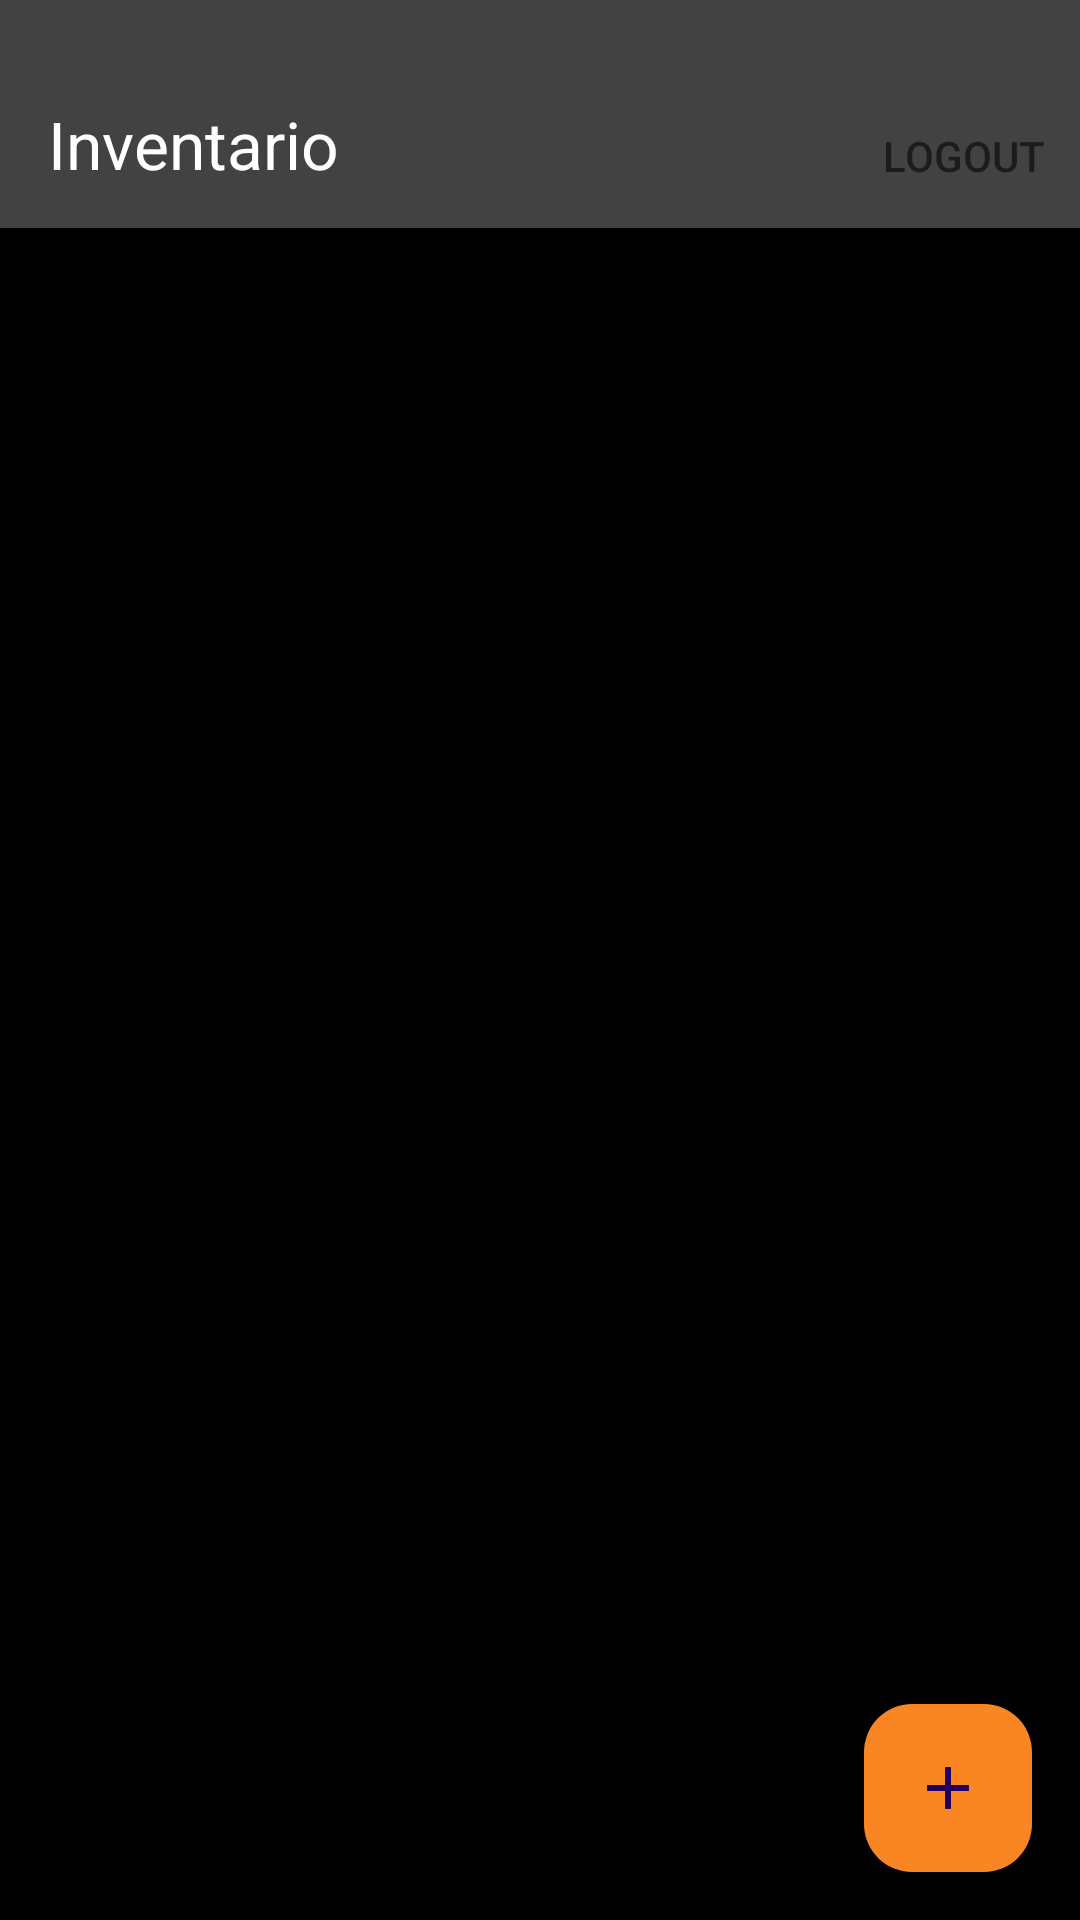

Locate icon controls on the screen. Image size 1080x1920, boxes as BBox(x1, y1, x2, y2).
add: BBox(864, 1704, 1032, 1872)
